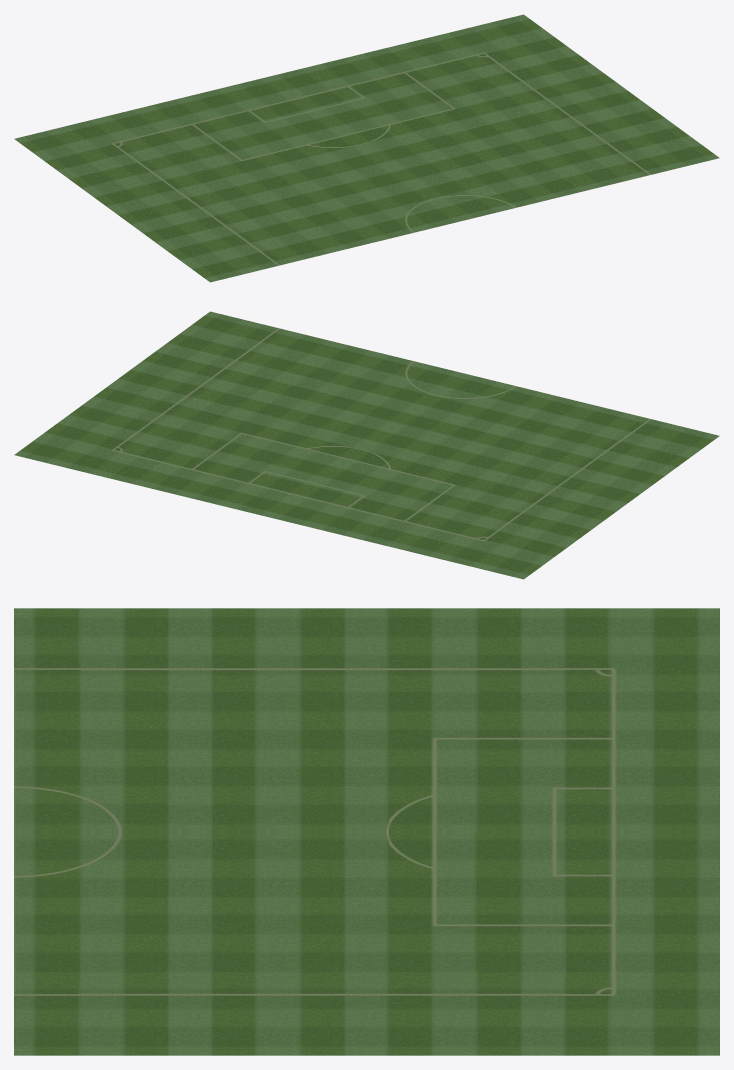
3 views of the same model, one above another, from view 1: azimuth 30°, elevation 25°; view 2: azimuth 150°, elevation 25°; view 3: azimuth 270°, elevation 25° (orthographic). The views are drawn at different scales.
Bounding box in the file's own units: 92.4 × 0 × 61.61.
Materials: 4 (4 with a texture image).
